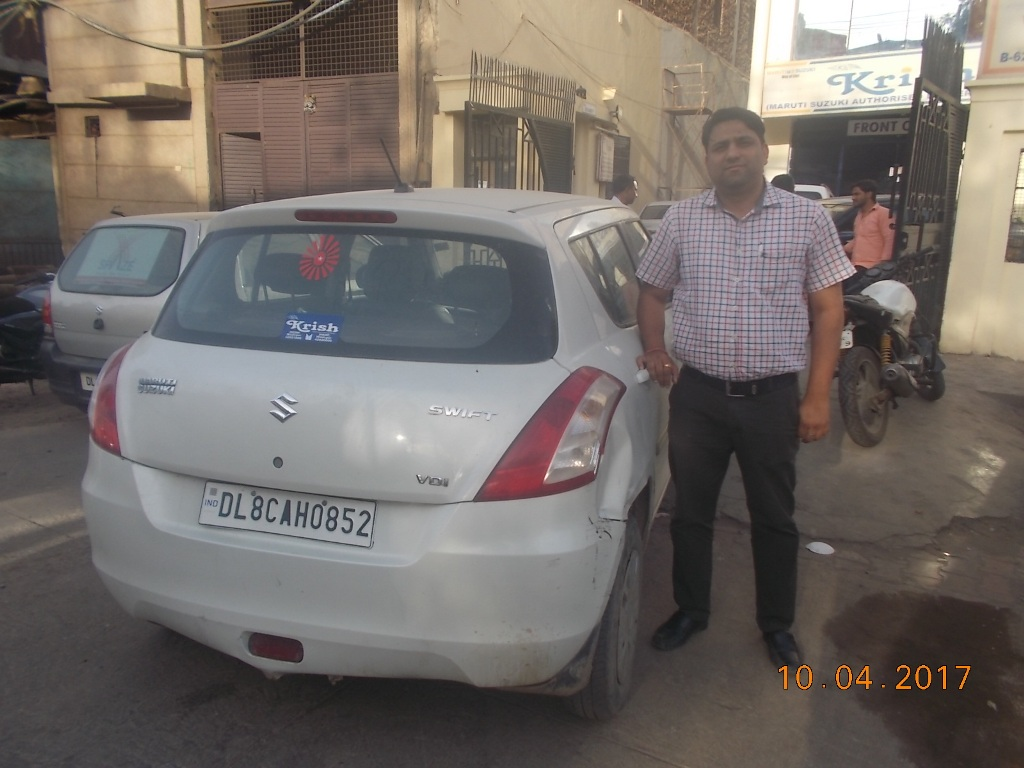Dent: (592, 432, 627, 549)
